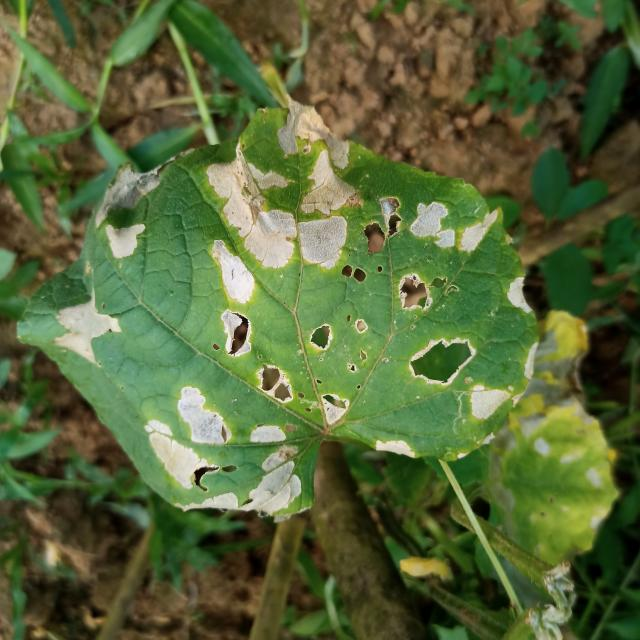disease_cucumber: (63, 117, 541, 525)
